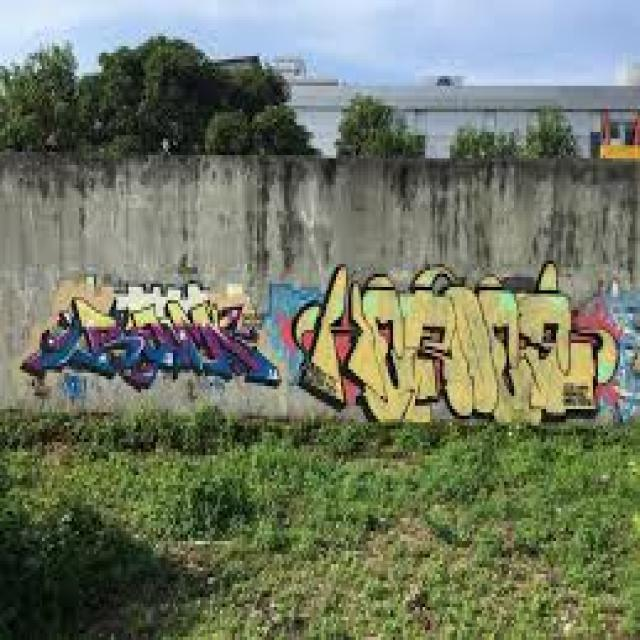-: (296, 263, 618, 432), (20, 272, 282, 392)
